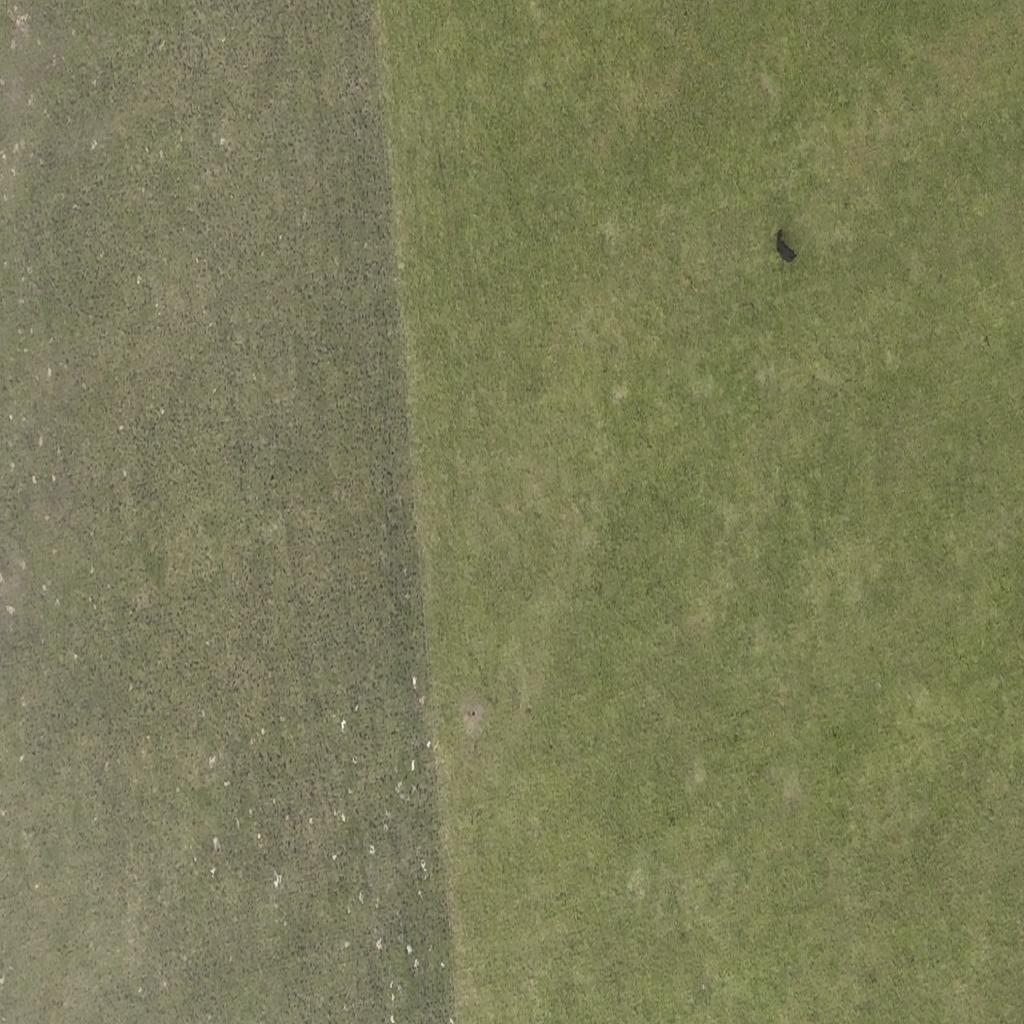cow: (772, 224, 797, 266)
